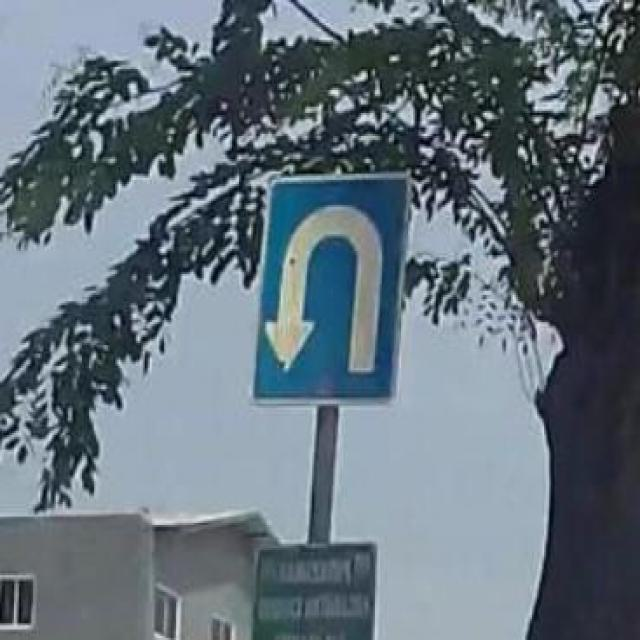U-turn: (258, 177, 397, 402)
